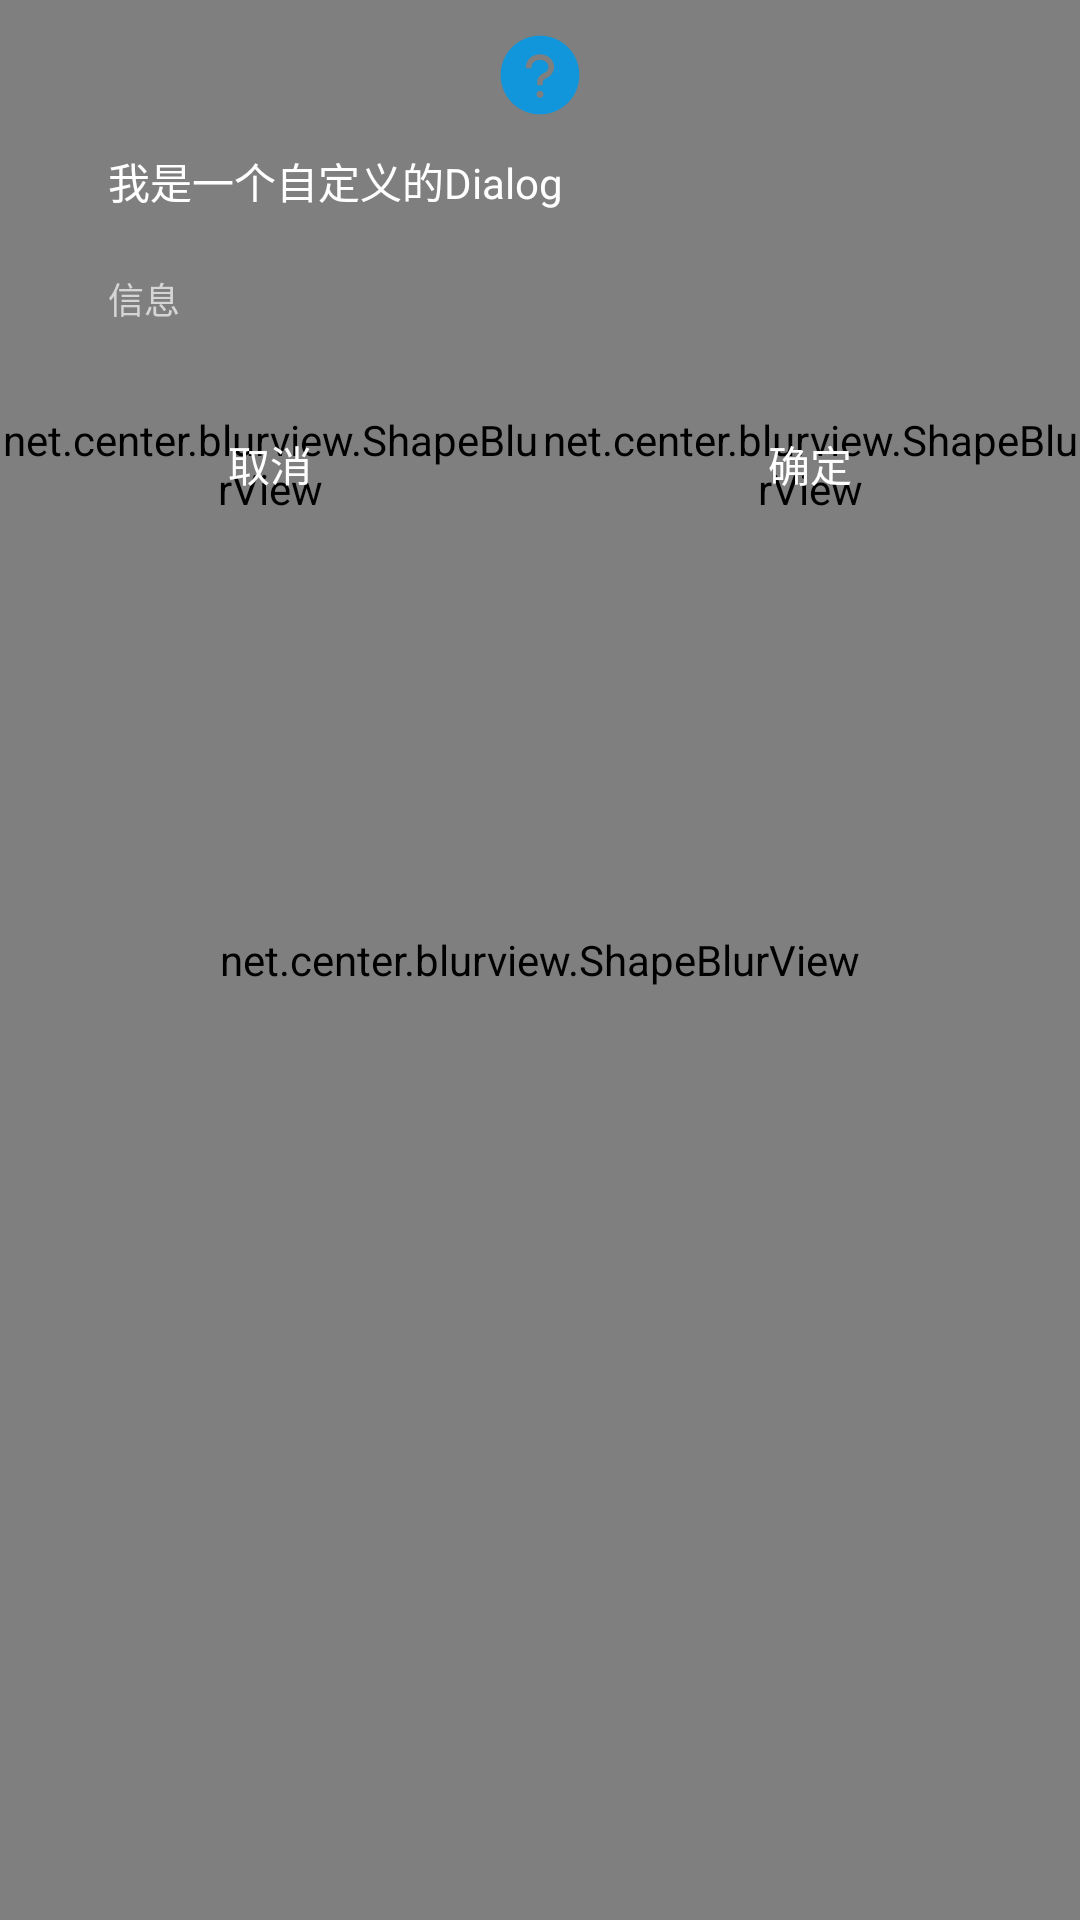

Named icons in this screenshot (1080×1920) and their centers, (x=x, y=y):
question tip: (x=540, y=75)
